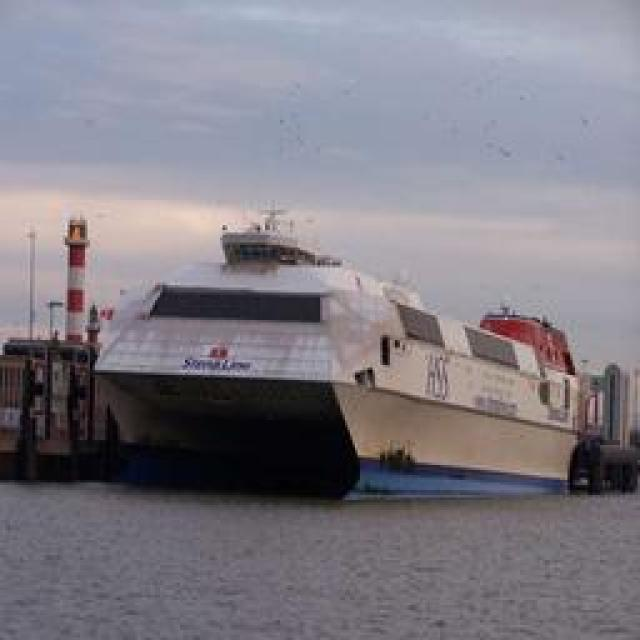ship2: (92, 229, 613, 504)
